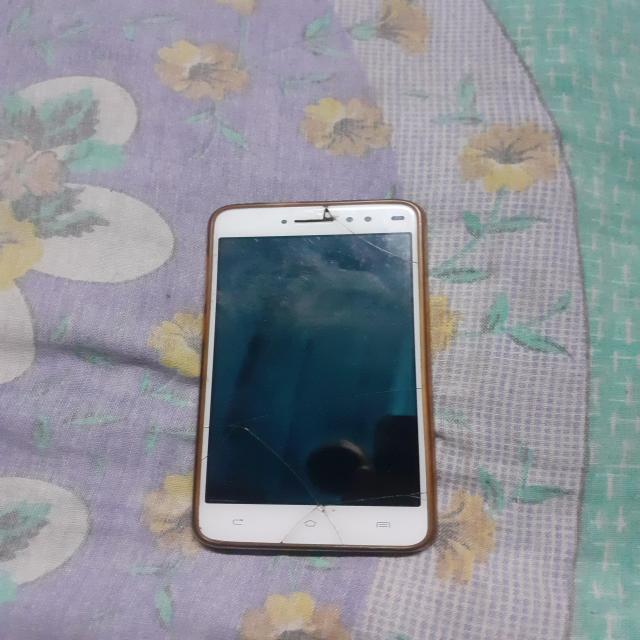mobile: (82, 155, 501, 574)
